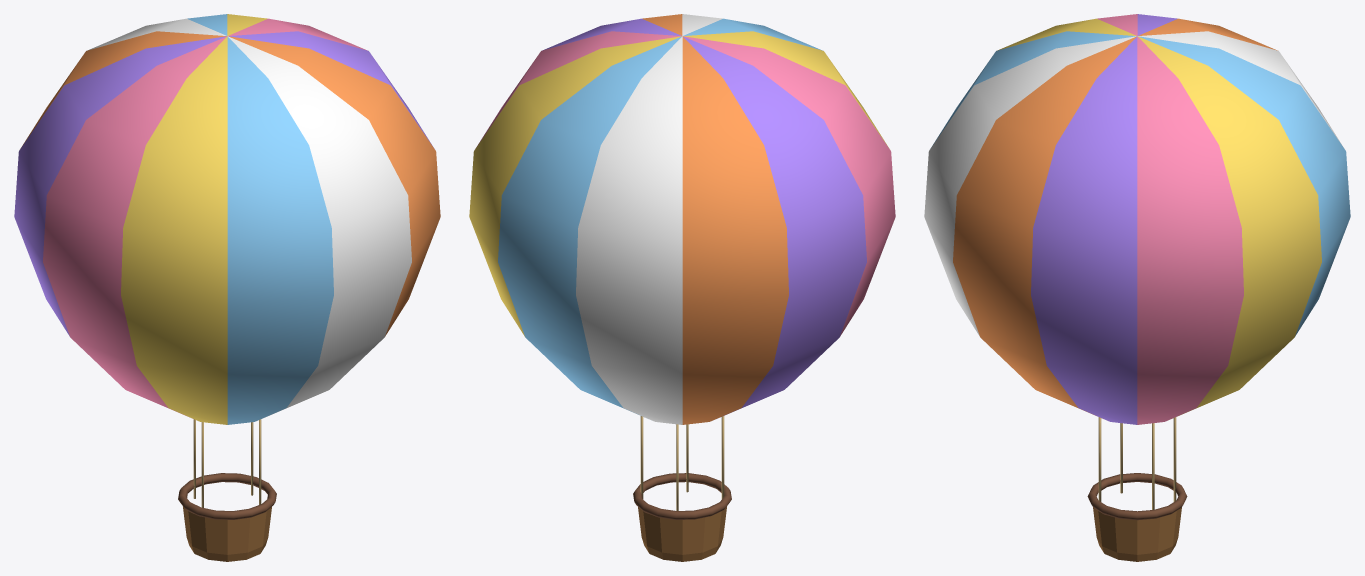
File: balloon.glb
3 renders of one model, left to right at view 1: azimuth 30°, elevation 25°; view 2: azimuth 150°, elevation 25°; view 3: azimuth 270°, elevation 25°, orthographic.
Visible parts, largest first — view 1: balloon; view 2: balloon; view 3: balloon.
Boxes of the visible parts, x1,y1,x2,y2 form: balloon: (14, 14, 440, 561); balloon: (469, 14, 895, 561); balloon: (924, 14, 1350, 561).
Size of the model in its own units: 4.7 by 6.2 by 4.7.
